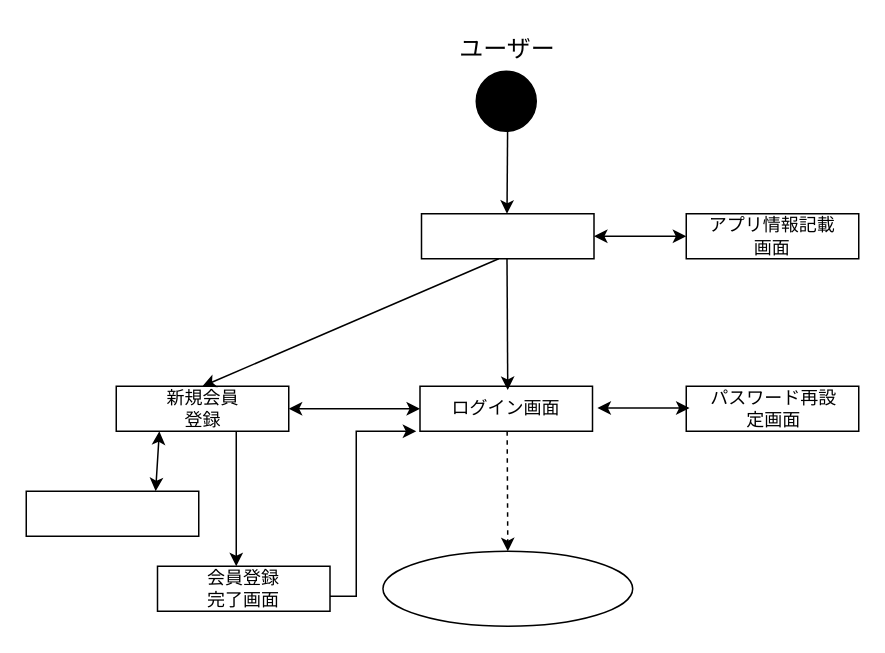
Some shapes in this 885 by 653 pixel diagram are drawn without their labels. The shapes that lost their labels are listed below. From the top down, each one's box as (x1, y1, x2, y2) in pixels, then its label:
(420, 212, 594, 259): アプリ起動画面
(25, 490, 199, 536): 利用規約確認画面
(381, 550, 633, 626): 各関連機能へ
